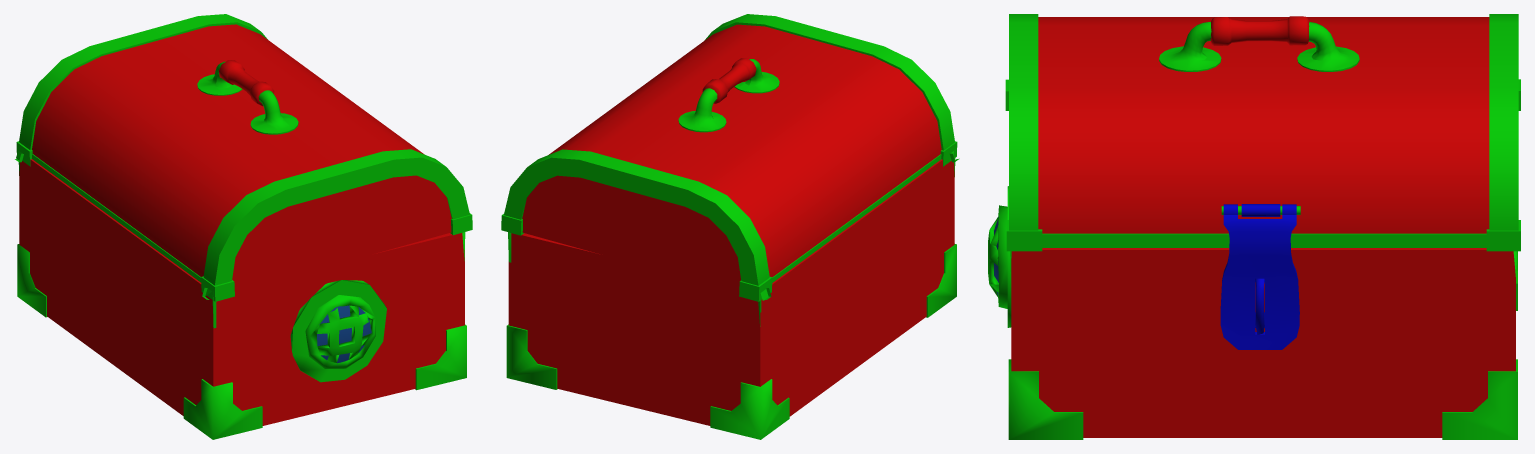
Rendered from Steampunk_box2_prb 1.fbx.
3 views of the same model, side by side, from view 1: azimuth 30°, elevation 25°; view 2: azimuth 150°, elevation 25°; view 3: azimuth 270°, elevation 25° (orthographic). The views are drawn at different scales.
Visible parts, largest first — view 1: Steampunk box Open.002, Steampunk box Open; view 2: Steampunk box Open.002, Steampunk box Open; view 3: Steampunk box Open.002, Steampunk box Open.
Part boxes in pixels (bbox=[...]): Steampunk box Open.002: bbox=[15, 14, 472, 301]; Steampunk box Open: bbox=[17, 159, 466, 439]; Steampunk box Open.002: bbox=[501, 14, 959, 301]; Steampunk box Open: bbox=[506, 149, 956, 439]; Steampunk box Open.002: bbox=[1005, 14, 1520, 349]; Steampunk box Open: bbox=[988, 186, 1517, 439].
Size of the model in its own units: 18.84 by 17.09 by 23.96.
